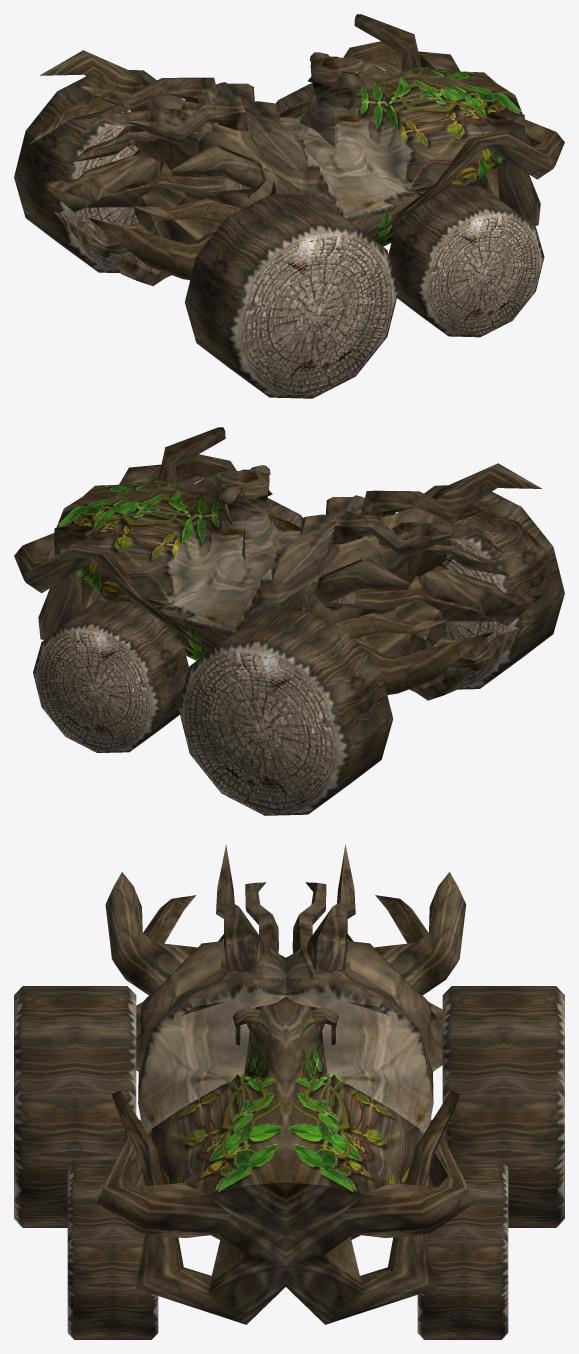
The model's file is TreeCar.fbx.
3 views of the same model, one above another, from view 1: azimuth 30°, elevation 25°; view 2: azimuth 150°, elevation 25°; view 3: azimuth 270°, elevation 25° (orthographic). The views are drawn at different scales.
Visible parts, largest first — view 1: TreeCar, BRWheel, FRWheel, BLWheel, FLWheel; view 2: TreeCar, BLWheel, FLWheel, BRWheel, FRWheel; view 3: TreeCar, BLWheel, BRWheel, FLWheel, FRWheel.
Part boxes in pixels (left/top/right/bottom): TreeCar: left=28, top=14, right=564, bottom=286; BRWheel: left=184, top=194, right=398, bottom=398; FRWheel: left=388, top=185, right=544, bottom=337; BLWheel: left=14, top=70, right=184, bottom=273; FLWheel: left=276, top=83, right=314, bottom=118; TreeCar: left=14, top=427, right=552, bottom=700; BLWheel: left=178, top=610, right=393, bottom=815; FLWheel: left=33, top=600, right=188, bottom=752; BRWheel: left=396, top=485, right=564, bottom=689; FRWheel: left=265, top=498, right=302, bottom=532; TreeCar: left=96, top=844, right=474, bottom=1324; BLWheel: left=442, top=986, right=564, bottom=1227; BRWheel: left=14, top=986, right=136, bottom=1227; FLWheel: left=417, top=1160, right=508, bottom=1339; FRWheel: left=67, top=1160, right=158, bottom=1339.
Bounding box in the file's own units: 7.24 × 3.79 × 6.16.
